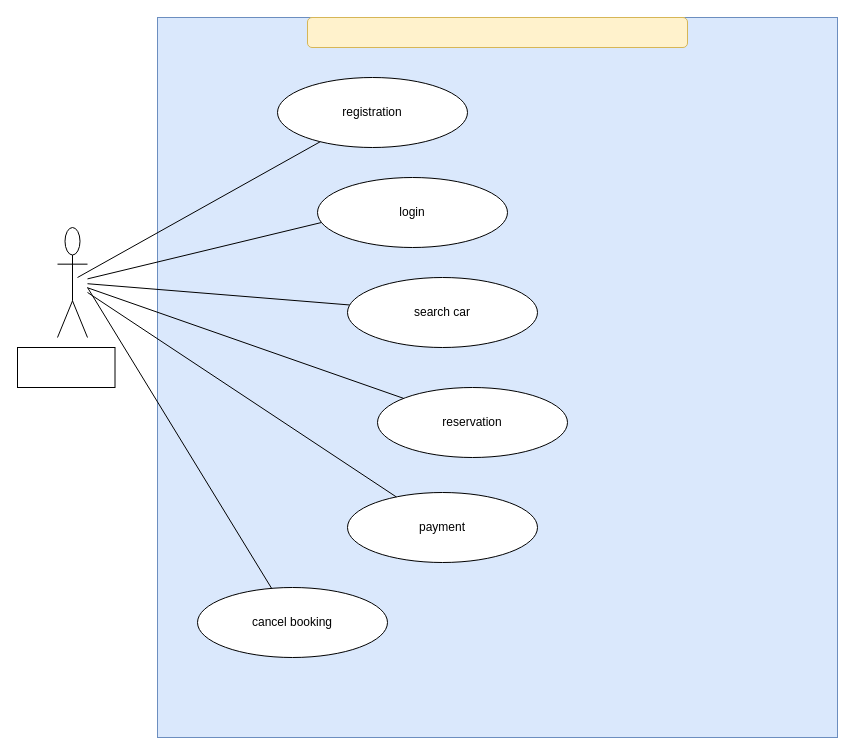
This 855x755 diagram has some shape labels left out. The box of each missing label's shape, as (x1, y1, x2, y2) in pixels:
Actor: (56, 226, 88, 338)
user: (16, 346, 115, 388)
vehicle rental system: (306, 16, 688, 48)
